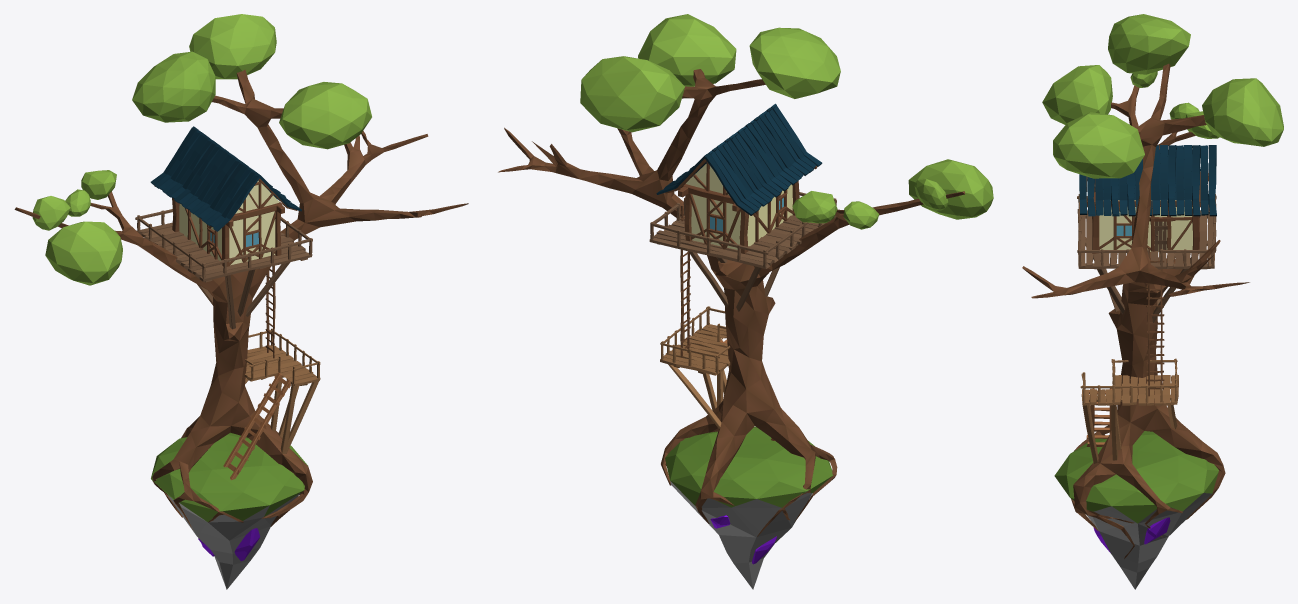
File: Low Poly Tree House.glb
3 views of the same model, side by side, from view 1: azimuth 30°, elevation 25°; view 2: azimuth 150°, elevation 25°; view 3: azimuth 270°, elevation 25° (orthographic). The views are drawn at different scales.
Parts seen in each view (by area): view 1: Leaves.251; view 2: Leaves.251; view 3: Leaves.251.
Part boxes in pixels (x1,y1,x2,y2): Leaves.251: [14, 14, 468, 589]; Leaves.251: [498, 14, 993, 589]; Leaves.251: [1022, 14, 1283, 589].
Size of the model in its own units: 77.98 by 94.23 by 40.49.
Materials: 1 (1 with a texture image).
